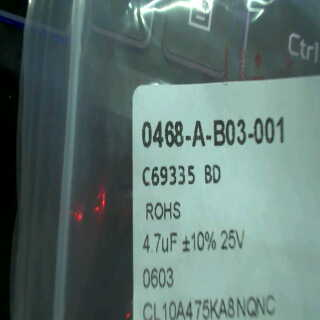4.7uF: (138, 230, 180, 258)
